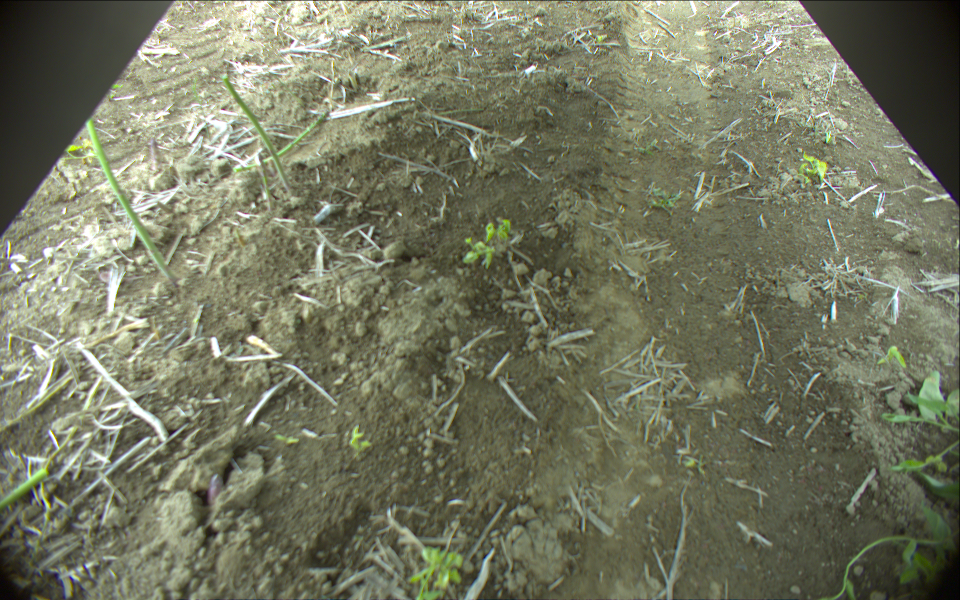aspa: (84, 114, 176, 280), (222, 75, 292, 189), (237, 108, 333, 173), (1, 467, 47, 506), (258, 150, 271, 202)
